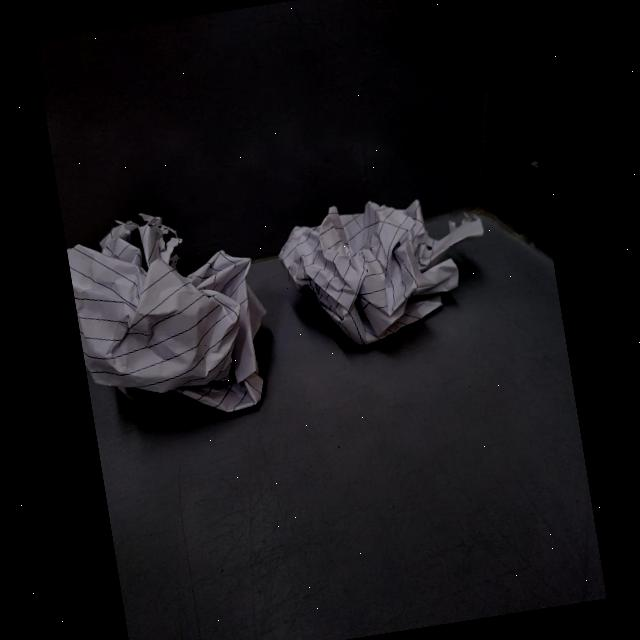trash: (61, 187, 292, 452), (280, 172, 500, 361)
